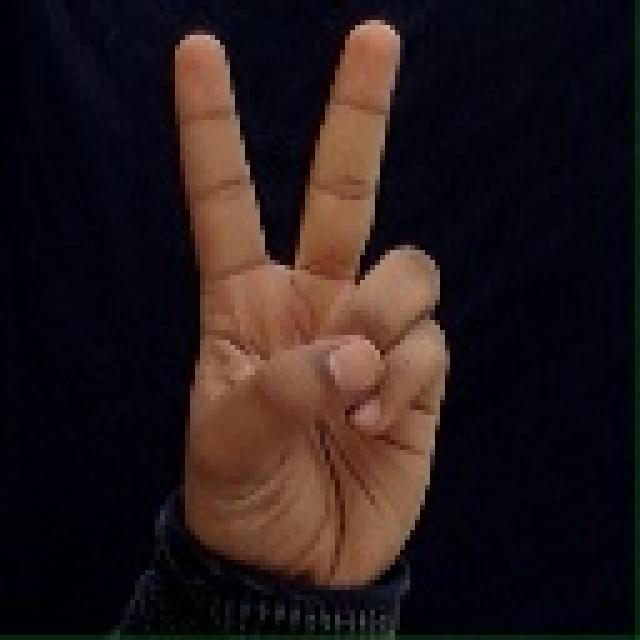No: (160, 10, 452, 608)
